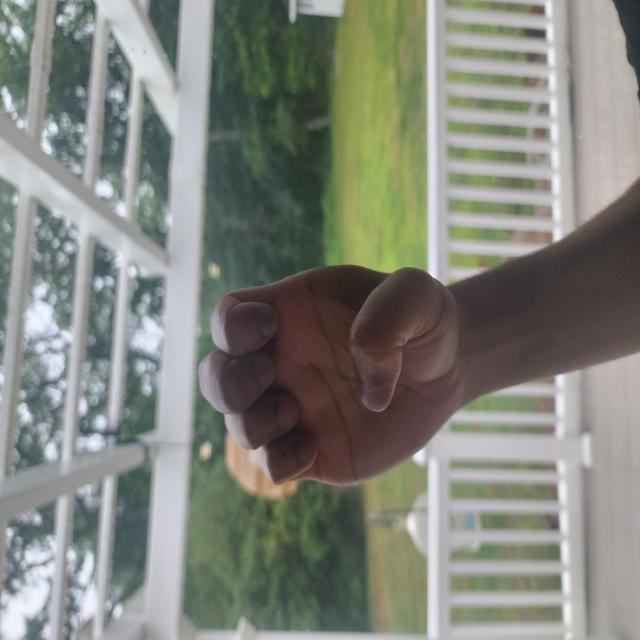E: (111, 258, 288, 625)
